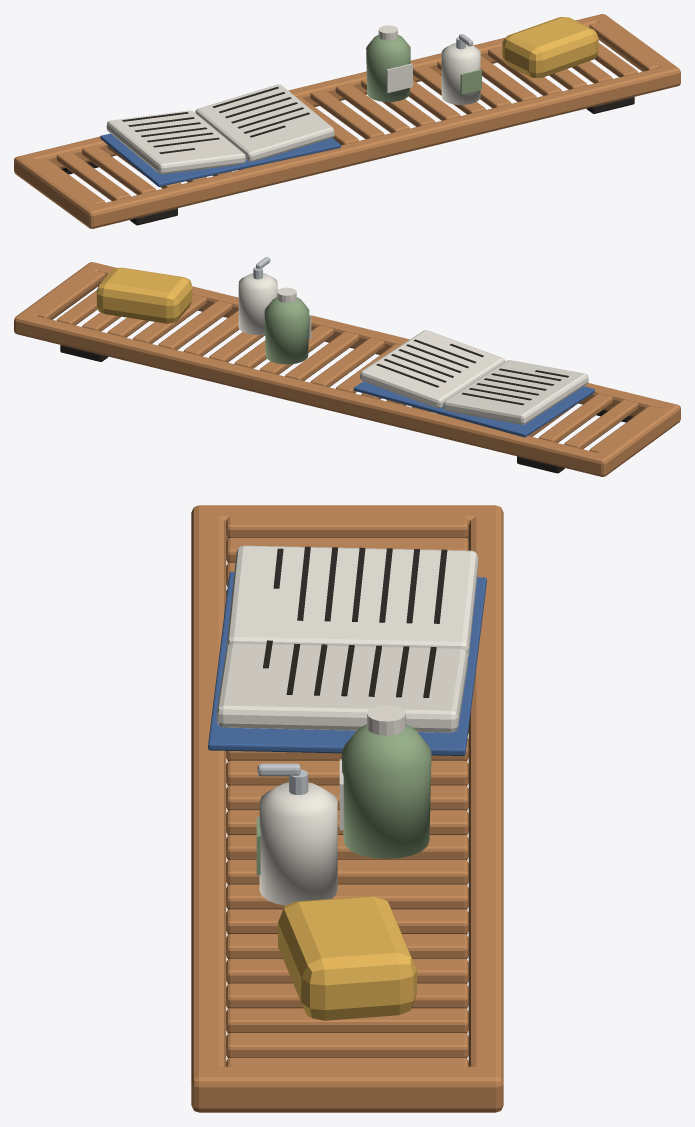
The model's file is hh_cat_bath_caddy.glb.
3 renders of one model, top to bottom at view 1: azimuth 30°, elevation 25°; view 2: azimuth 150°, elevation 25°; view 3: azimuth 270°, elevation 25°, orthographic. The views are drawn at different scales.
Parts seen in each view (by area): view 1: rail, pages.001, pages, sponge, rail.001, book_cover, end_bar, bottle, bottle.001, slat.011, slat.001, slat.012 (+18 smaller); view 2: rail.001, pages.001, pages, sponge, rail, bottle, book_cover, end_bar, bottle.001, slat.011, slat.001, slat.012 (+16 smaller); view 3: pages, rail, rail.001, pages.001, sponge, end_bar.001, bottle, bottle.001, book_cover, slat.021, slat, slat.020 (+15 smaller).
Part boxes in pixels (x1,y1,x2,y2): rail: (83,65,680,228); pages.001: (195,84,334,161); pages: (106,110,245,174); sponge: (502,17,598,78); rail.001: (14,14,607,175); book_cover: (100,133,340,186); end_bar: (14,154,103,228); bottle: (366,35,410,101); bottle.001: (441,43,480,104); slat.011: (310,89,384,139); slat.001: (56,151,130,200); slat.012: (335,83,409,132); rail.001: (15,313,611,476); pages.001: (360,330,504,408); pages: (443,360,588,424); sponge: (96,267,192,323); rail: (87,262,680,422); bottle: (264,297,309,364); book_cover: (353,381,594,437); end_bar: (591,402,680,476); bottle.001: (238,273,277,335); slat.011: (310,337,384,387); slat.001: (564,399,638,449); slat.012: (285,331,359,380); pages: (227,545,478,657); rail: (191,505,226,1110); rail.001: (468,505,503,1110); pages.001: (216,643,467,732); sponge: (278,896,416,1020); end_bar.001: (191,1066,503,1112); bottle: (341,724,431,858); bottle.001: (259,782,337,905); book_cover: (208,571,486,755); slat.021: (226,1033,468,1058); slat: (226,513,468,538); slat.020: (226,1008,468,1033).
Size of the model in its own units: 0.7 by 0.1 by 0.16.
